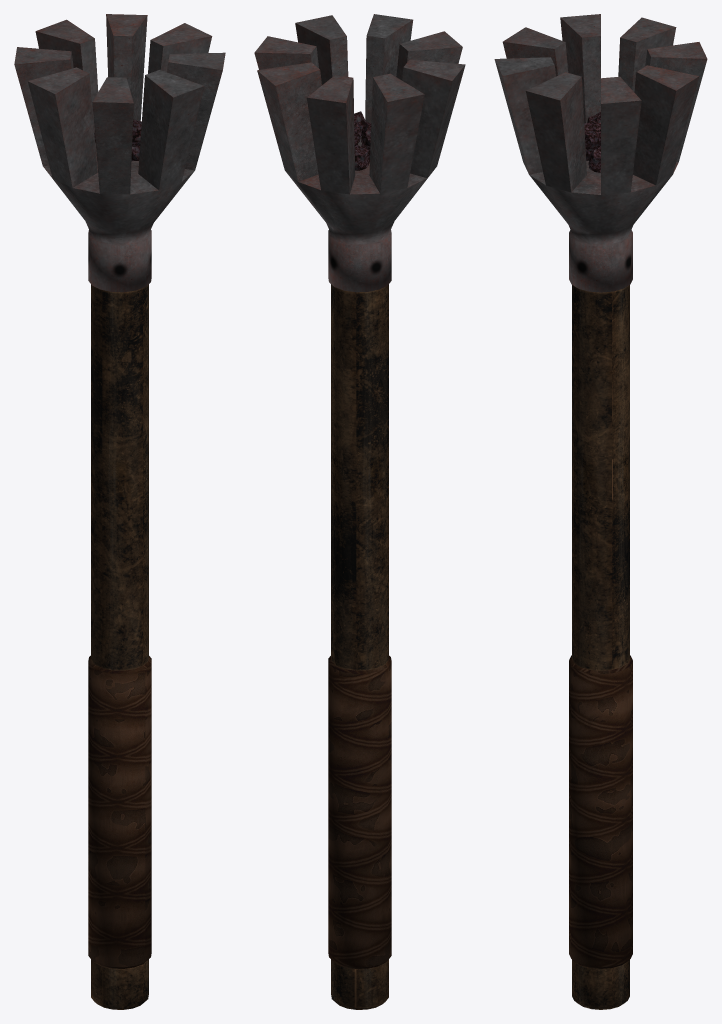
File: torch.obj
3 renders of one model, left to right at view 1: azimuth 30°, elevation 25°; view 2: azimuth 150°, elevation 25°; view 3: azimuth 270°, elevation 25°, orthographic.
Parts seen in each view (by area): view 1: FancyTorch; view 2: FancyTorch; view 3: FancyTorch.
Boxes of the visible parts, x1,y1,x2,y2 form: FancyTorch: (14, 14, 225, 1009); FancyTorch: (254, 14, 465, 1009); FancyTorch: (494, 14, 707, 1009).
Bounding box in the file's own units: 13.57 × 66.24 × 13.57.
